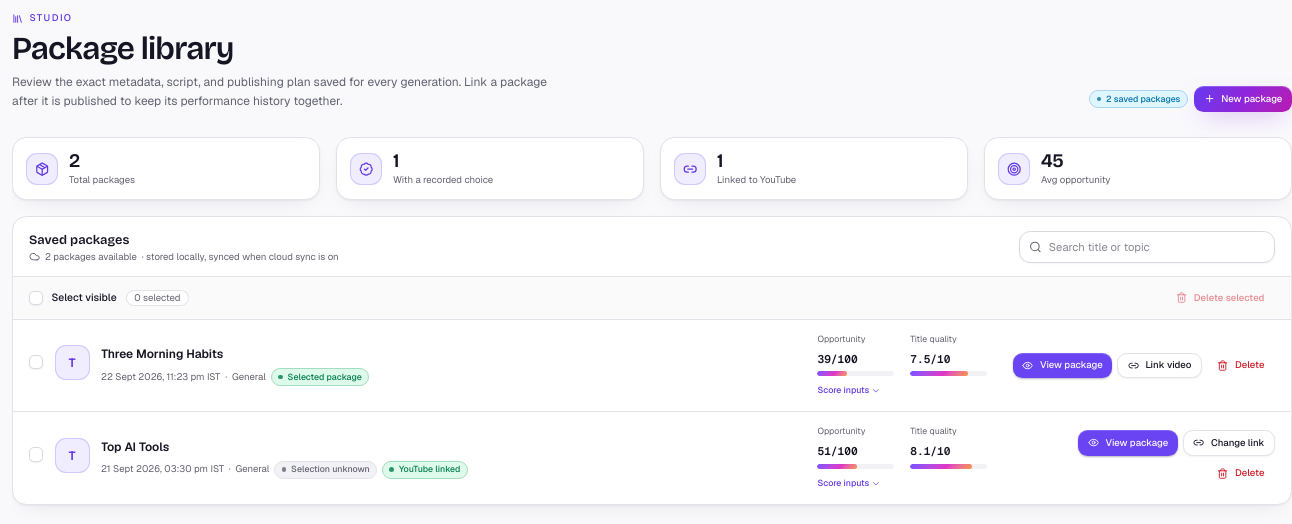
Test: HistoryPage › selects only the rows currently visible under a search
This screenshot has width=1292, height=524.
Expected: the button "Three Morning Habits" is shown, [101,345,223,363]
Type "morning" into the search field named "Search saved packages".
click(1147, 247); type("morning")  # box [1019,231,1275,263]
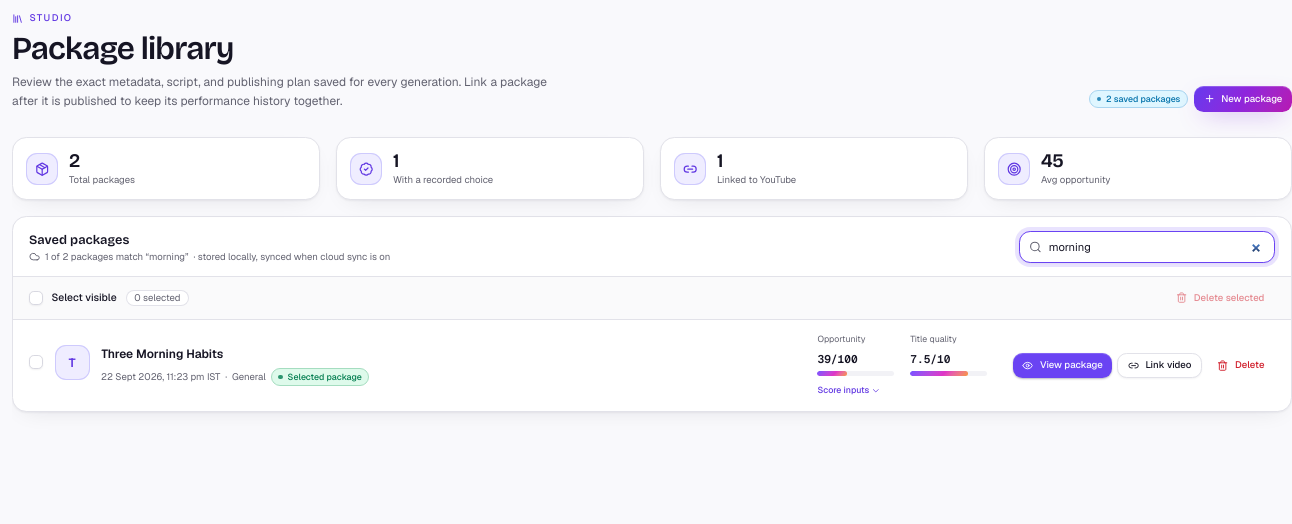
Result: the button "Top AI Tools" is gone
Click the checkbox named "Select visible packages".
click(36, 298)  # box [29,291,43,305]
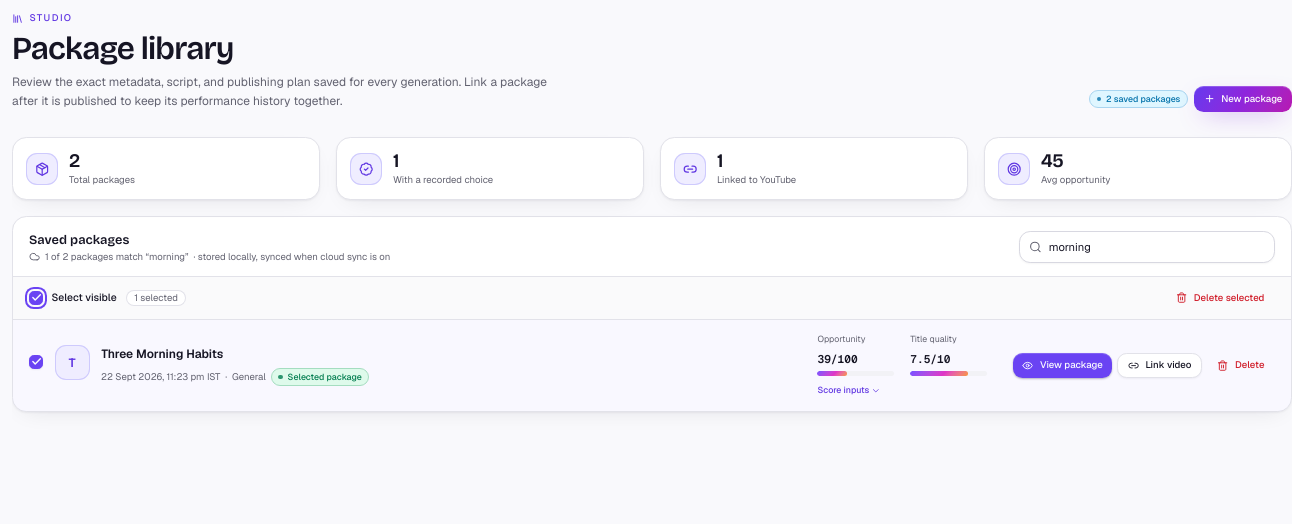
Result: the text "1 selected" is shown at [126,290,186,306]
